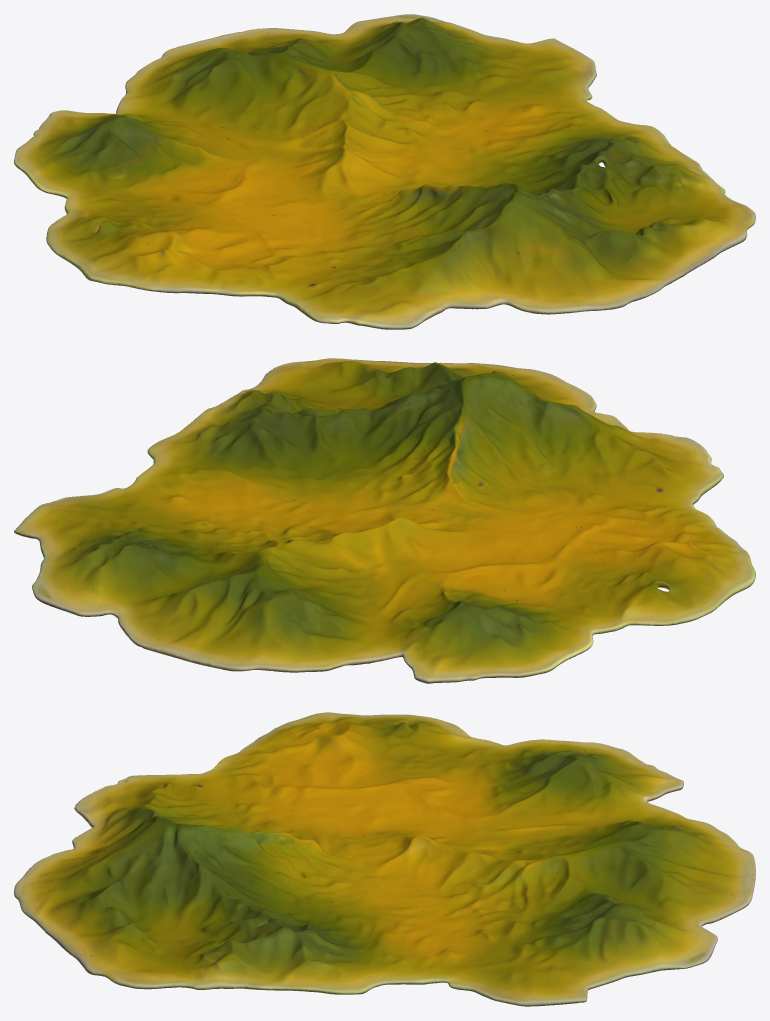
The model's file is Meshy_AI_Path_Through_the_Fiel_0319011157_texture.glb.
The picture shows the model from 3 angles, top to bottom: view 1: azimuth 30°, elevation 25°; view 2: azimuth 150°, elevation 25°; view 3: azimuth 270°, elevation 25°; orthographic projection. The views are drawn at different scales.
Bounding box in the file's own units: 1.85 × 0.1952 × 2.
1 material, 1 textured.
